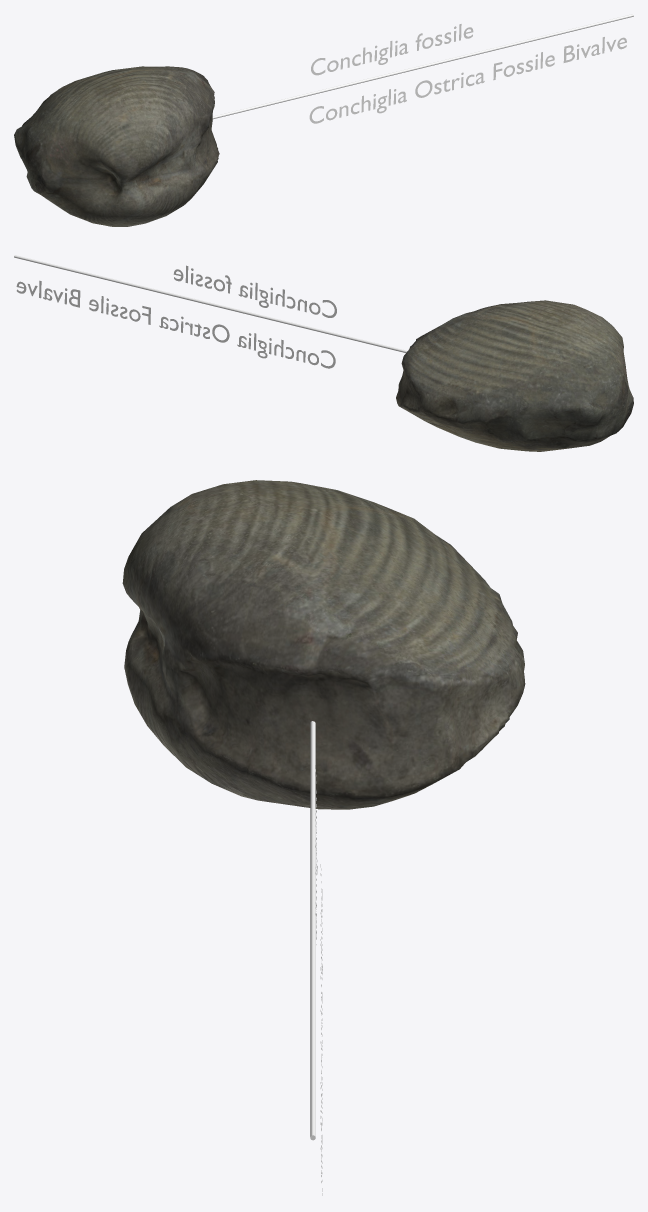
Rendered from Fossile3.gltf.
3 renders of one model, top to bottom at view 1: azimuth 30°, elevation 25°; view 2: azimuth 150°, elevation 25°; view 3: azimuth 270°, elevation 25°, orthographic. The views are drawn at different scales.
Parts seen in each view (by area): view 1: fossil10, Text, riga; view 2: fossil10, Text, riga; view 3: fossil10, riga.
Part boxes in pixels (left/top/right/bottom): fossil10: left=14, top=66, right=219, bottom=226; Text: left=309, top=24, right=626, bottom=123; riga: left=212, top=14, right=633, bottom=119; fossil10: left=396, top=300, right=633, bottom=451; Text: left=16, top=265, right=336, bottom=368; riga: left=14, top=255, right=407, bottom=352; fossil10: left=122, top=480, right=525, bottom=809; riga: left=310, top=721, right=315, bottom=1140.
Bounding box in the file's own units: 5.15 × 1.07 × 1.48.
2 materials, 1 textured.
